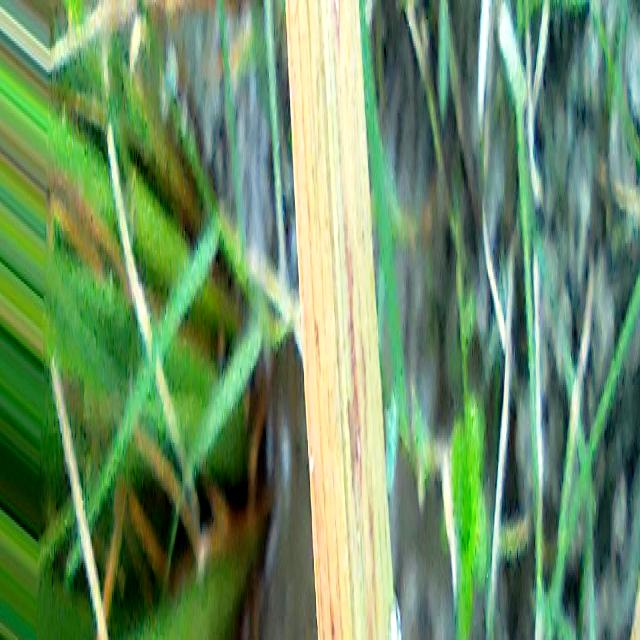NBS: (342, 220, 362, 524), (359, 285, 368, 453), (368, 499, 377, 628), (333, 1, 340, 60), (330, 590, 336, 640), (368, 617, 372, 640)
